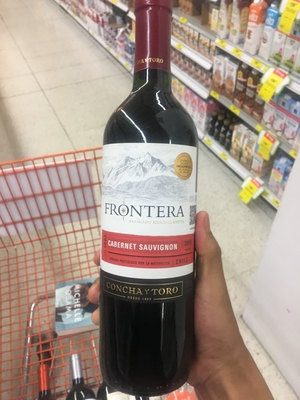frontera cabernet sauvignon: (89, 5, 211, 376)
